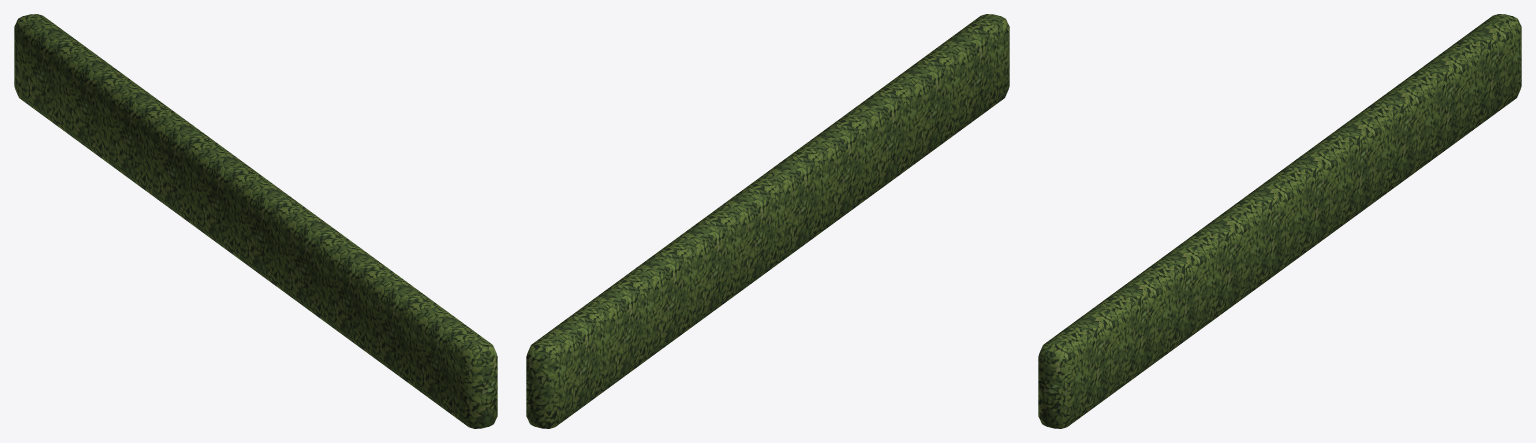
File: art_roofBushLong.fbx
3 views of the same model, side by side, from view 1: azimuth 30°, elevation 25°; view 2: azimuth 150°, elevation 25°; view 3: azimuth 330°, elevation 25° (orthographic).
Visible parts, largest first — view 1: art_roofBushLong; view 2: art_roofBushLong; view 3: art_roofBushLong.
Part boxes in pixels (bbox=[...]): art_roofBushLong: bbox=[14, 14, 497, 428]; art_roofBushLong: bbox=[526, 14, 1009, 428]; art_roofBushLong: bbox=[1038, 14, 1521, 428].
Bounding box in the file's own units: 636 × 1553 × 16324.
1 material, 1 textured.
